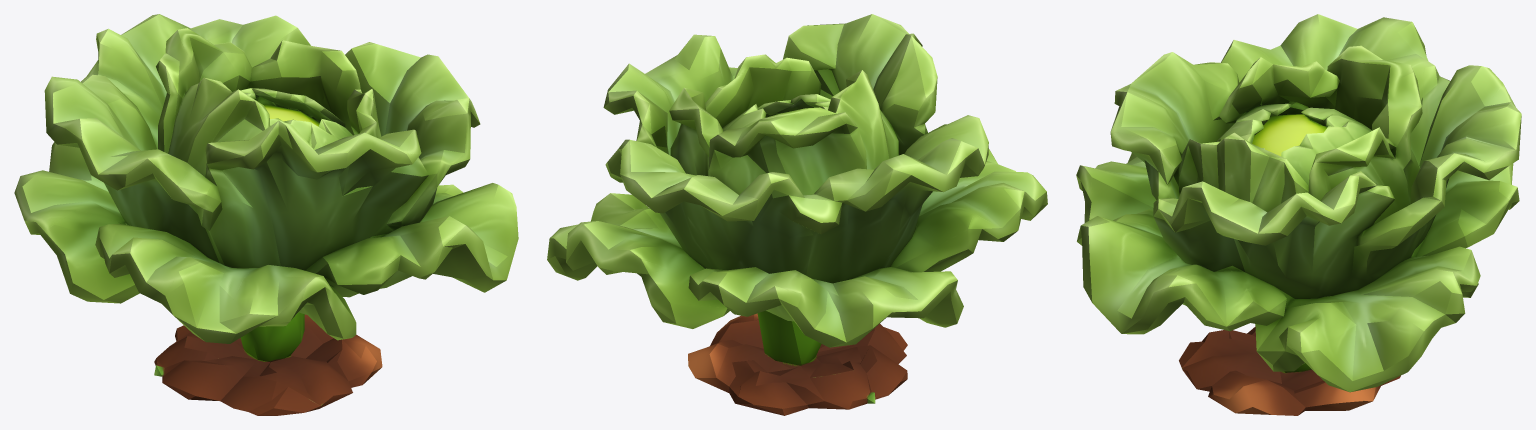
The model's file is Lettuce.glb.
3 views of the same model, side by side, from view 1: azimuth 30°, elevation 25°; view 2: azimuth 150°, elevation 25°; view 3: azimuth 270°, elevation 25° (orthographic). The views are drawn at different scales.
Parts seen in each view (by area): view 1: geometry_0; view 2: geometry_0; view 3: geometry_0.
Boxes of the visible parts, x1,y1,x2,y2 form: geometry_0: (14,14,518,415); geometry_0: (547,14,1047,415); geometry_0: (1076,14,1521,415).
Size of the model in its own units: 0.2 by 0.15 by 0.2.
1 material, 1 textured.
